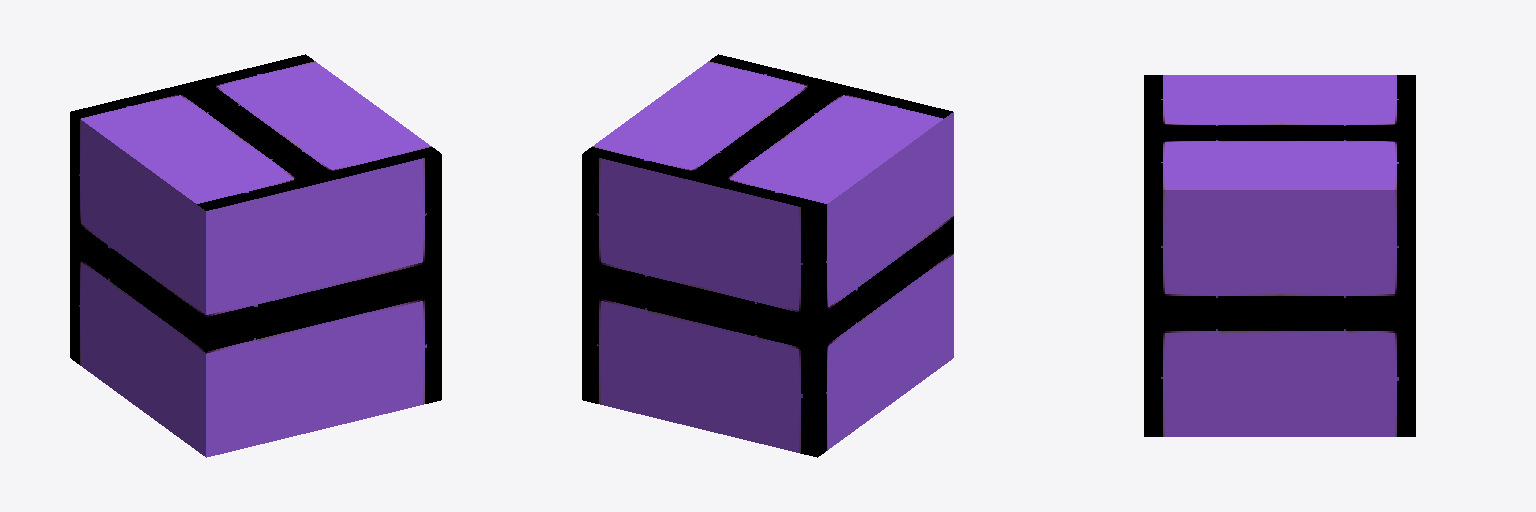
3 renders of one model, left to right at view 1: azimuth 30°, elevation 25°; view 2: azimuth 150°, elevation 25°; view 3: azimuth 270°, elevation 25°, orthographic.
Visible parts, largest first — view 1: Cube; view 2: Cube; view 3: Cube.
Part boxes in pixels (bbox=[...]): Cube: bbox=[70, 54, 441, 457]; Cube: bbox=[582, 54, 953, 457]; Cube: bbox=[1144, 75, 1415, 436].
Bounding box in the file's own units: 2 × 2 × 2.
Materials: 1 (1 with a texture image).